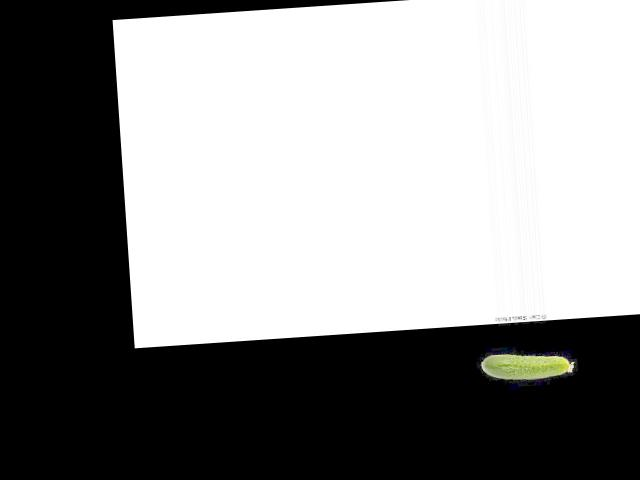cucumber: (480, 349, 574, 382)
